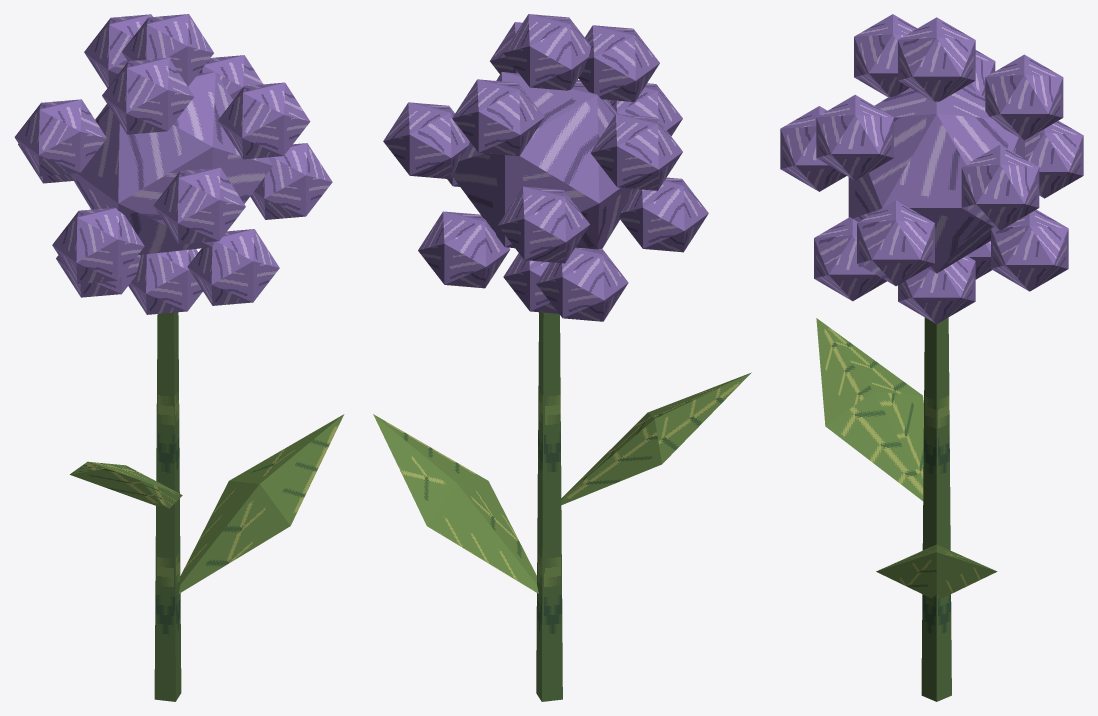
The model's file is flor-allium-v01.gltf.
The picture shows the model from 3 angles, left to right: view 1: azimuth 30°, elevation 25°; view 2: azimuth 150°, elevation 25°; view 3: azimuth 270°, elevation 25°; orthographic projection.
Parts seen in each view (by area): view 1: flores-globo, folhas, hastes; view 2: flores-globo, folhas, hastes; view 3: flores-globo, folhas, hastes.
Boxes of the visible parts, x1,y1,x2,y2 form: flores-globo: (14,14,332,314); folhas: (70,414,344,593); hastes: (154,312,181,701); flores-globo: (383,14,708,321); folhas: (373,372,751,593); hastes: (536,312,562,701); flores-globo: (780,14,1083,323); folhas: (816,318,997,598); hastes: (921,317,951,701).
Bounding box in the file's own units: 0.5944 × 1.21 × 0.4971.
Materials: 1 (1 with a texture image).
